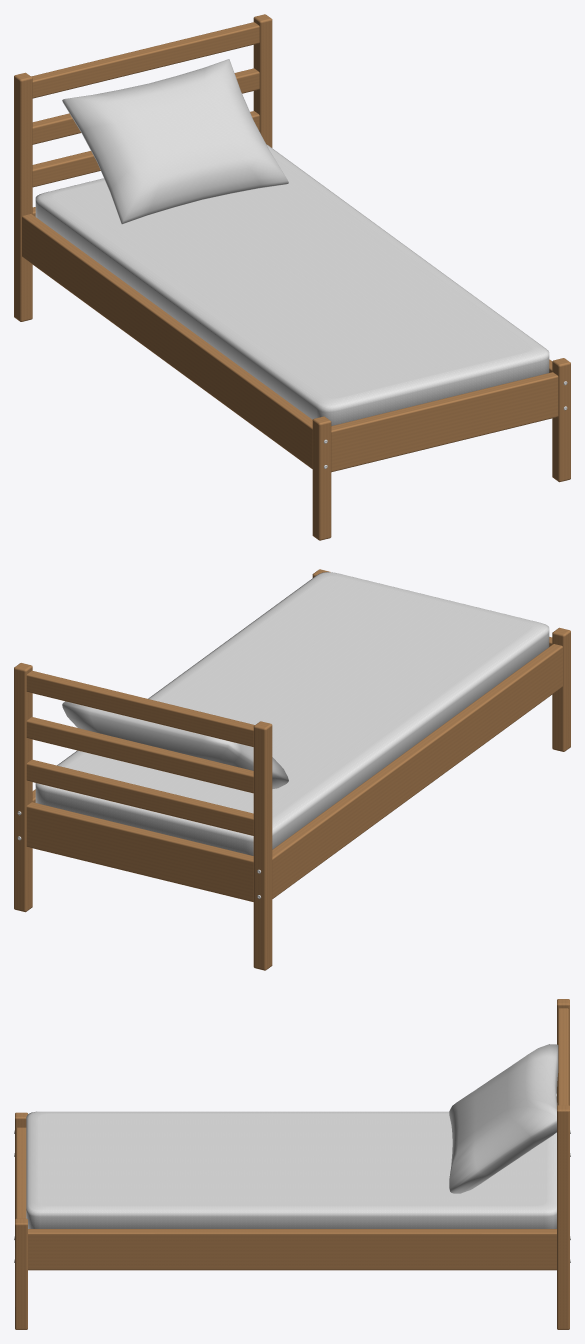
3 views of the same model, one above another, from view 1: azimuth 30°, elevation 25°; view 2: azimuth 150°, elevation 25°; view 3: azimuth 270°, elevation 25° (orthographic). The views are drawn at different scales.
Visible parts, largest first — view 1: Bed Mattress, Bed Frame, Bed Pillow; view 2: Bed Mattress, Bed Frame, Bed Pillow; view 3: Bed Mattress, Bed Frame, Bed Pillow.
Boxes of the visible parts, left/top/right/bottom form: Bed Mattress: left=35, top=144, right=549, bottom=425; Bed Frame: left=14, top=14, right=570, bottom=540; Bed Pillow: left=62, top=59, right=288, bottom=224; Bed Mattress: left=35, top=572, right=549, bottom=855; Bed Frame: left=14, top=569, right=570, bottom=970; Bed Pillow: left=62, top=701, right=288, bottom=788; Bed Mattress: left=26, top=1111, right=556, bottom=1228; Bed Frame: left=14, top=999, right=570, bottom=1329; Bed Pillow: left=449, top=1044, right=558, bottom=1193.
Bounding box in the file's own units: 100 × 91.85 × 211.
Materials: 3 (3 with a texture image).
